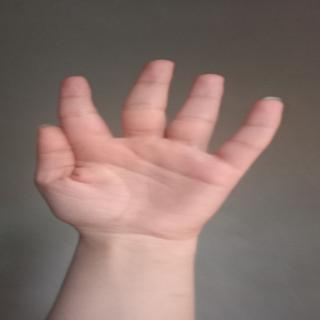SHEEN: (35, 62, 300, 240)
